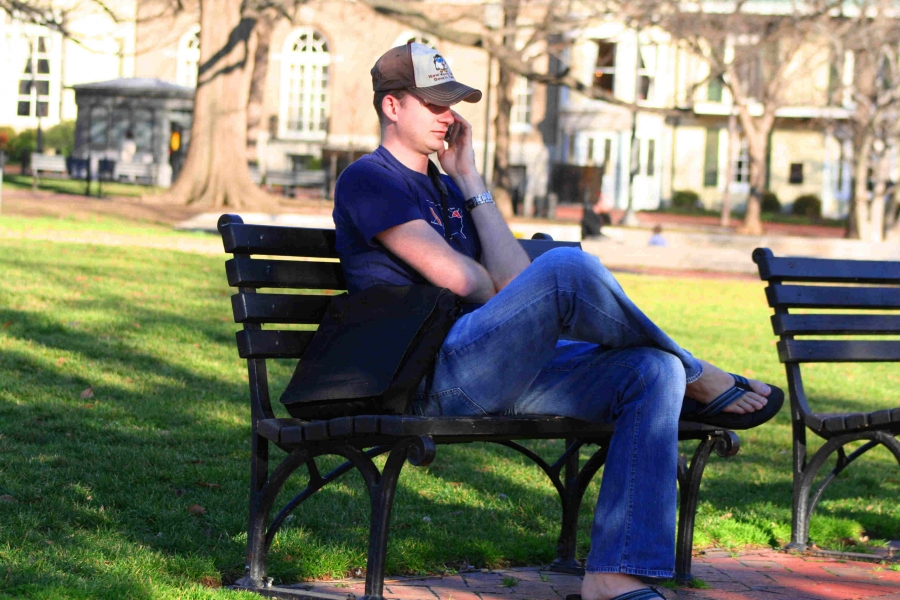phone: (436, 109, 472, 164)
